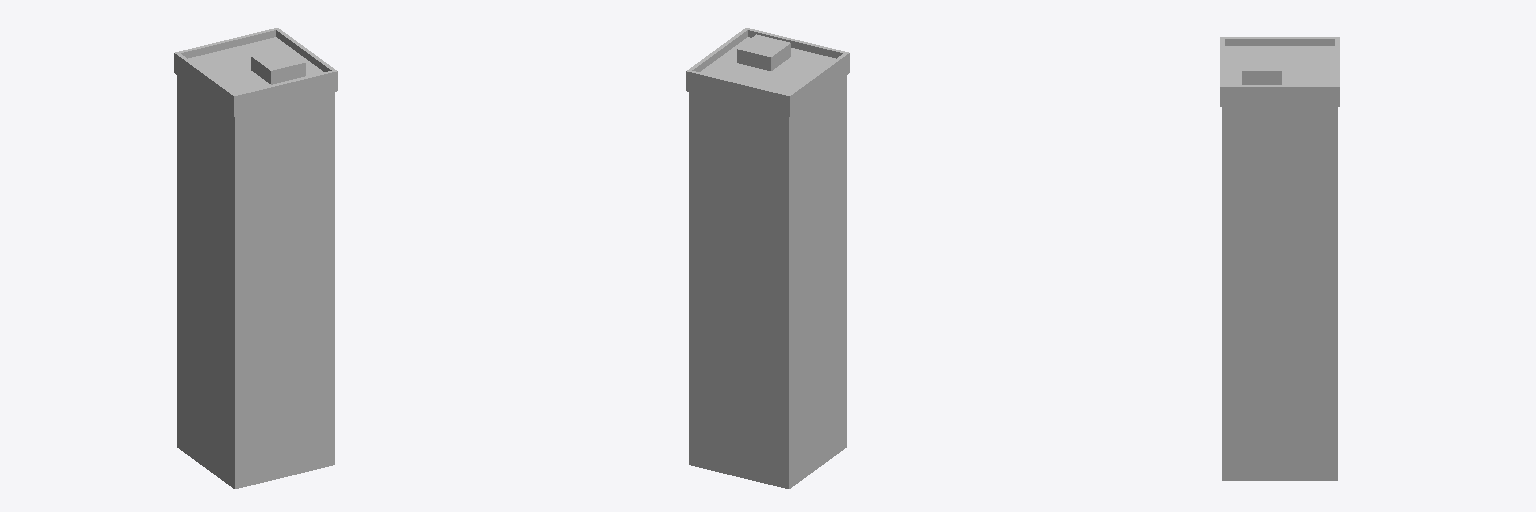
Rendered from building_26.obj.
The picture shows the model from 3 angles: view 1: azimuth 30°, elevation 25°; view 2: azimuth 150°, elevation 25°; view 3: azimuth 270°, elevation 25°; orthographic projection.
Visible parts, largest first — view 1: BakedBuilding_323; view 2: BakedBuilding_323; view 3: BakedBuilding_323.
Part boxes in pixels (left/top/right/bottom): BakedBuilding_323: left=174, top=28, right=337, bottom=488; BakedBuilding_323: left=686, top=28, right=849, bottom=488; BakedBuilding_323: left=1220, top=37, right=1339, bottom=480.
Size of the model in its own units: 52.9 by 195 by 52.88.